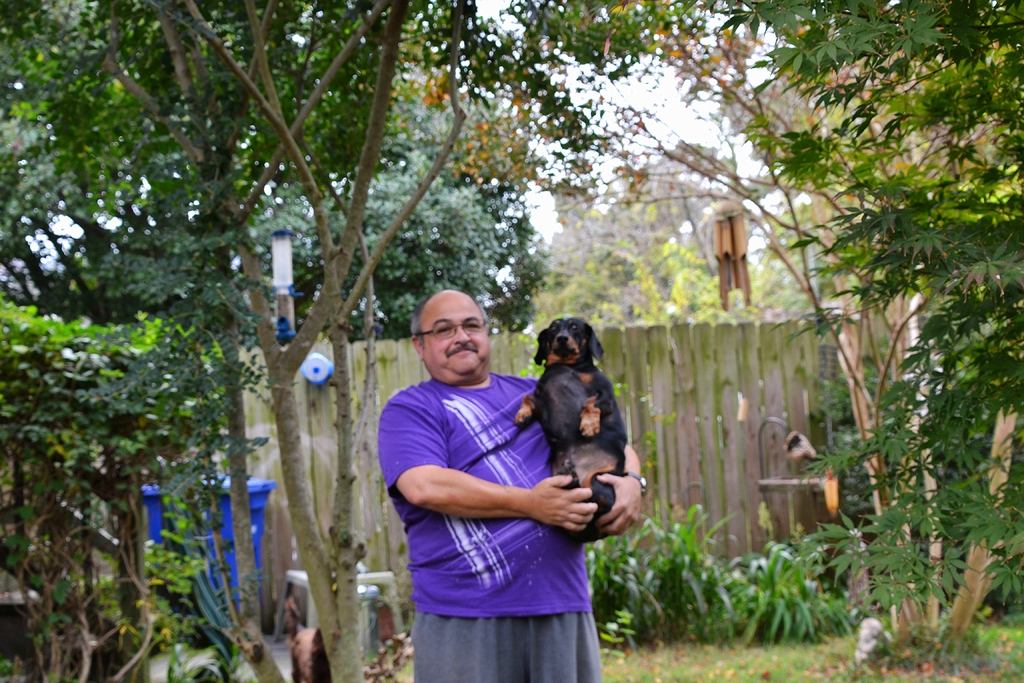Dog face: (538, 317, 597, 366)
